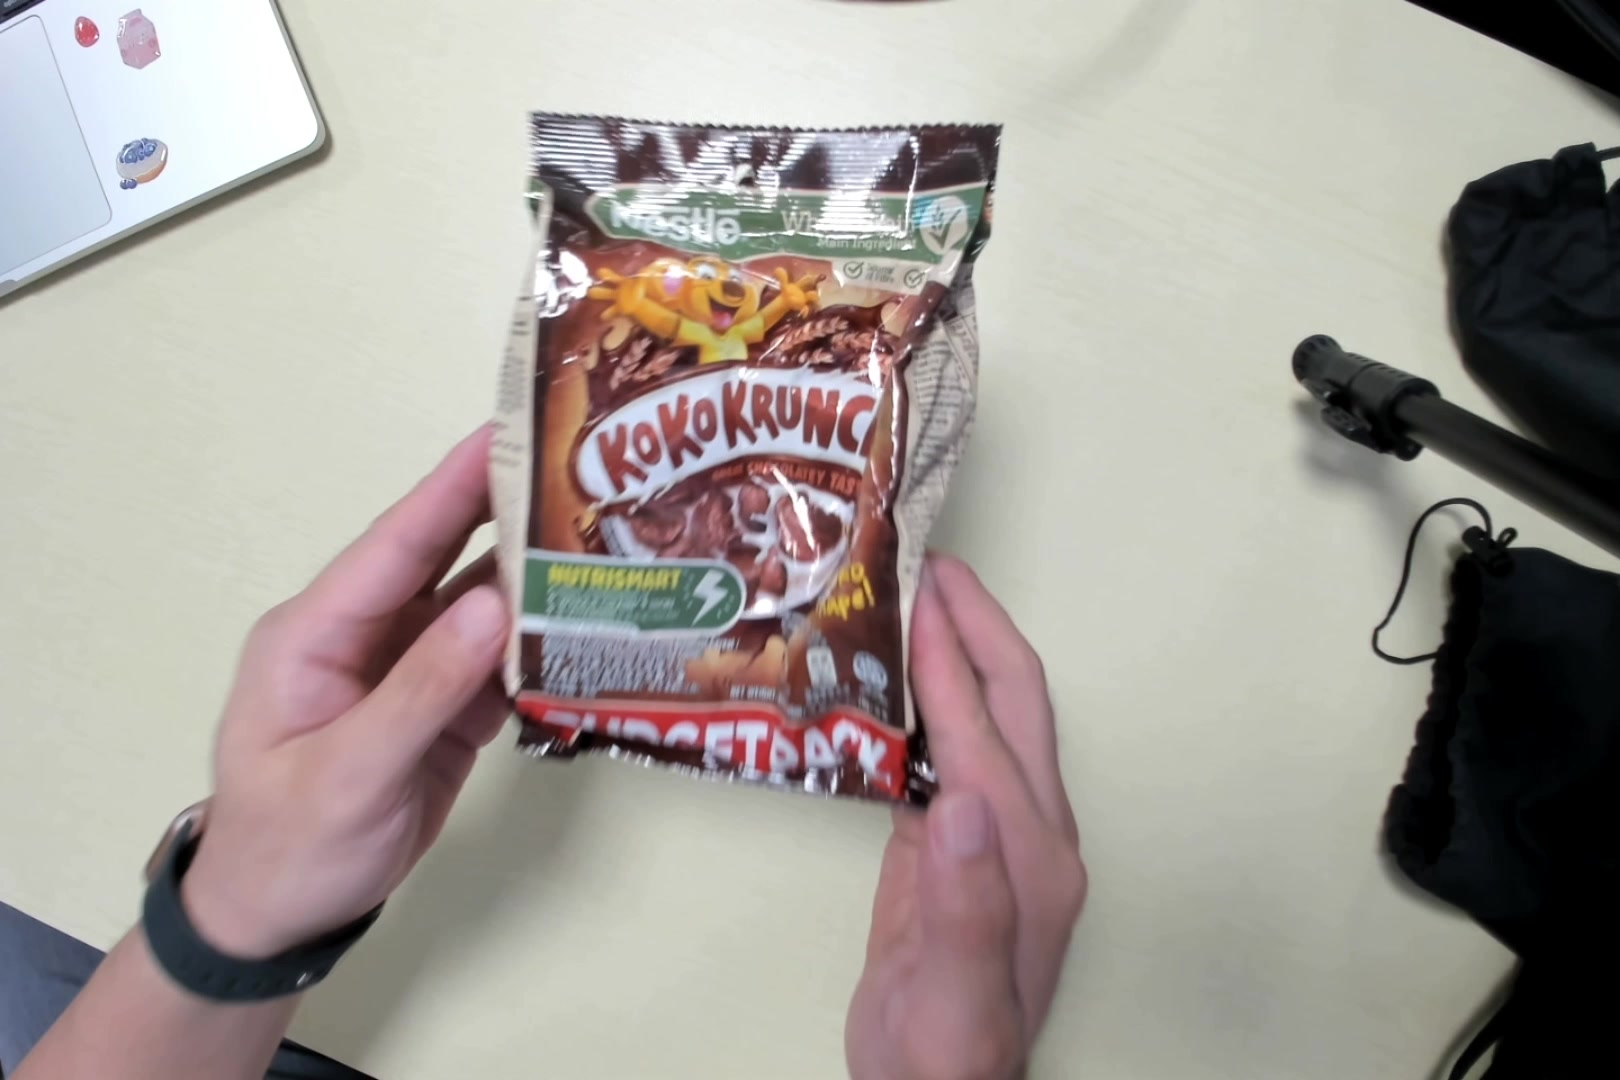BreakfastCereals_0-99g_Halal_NonHealthy: (515, 108, 952, 799)
